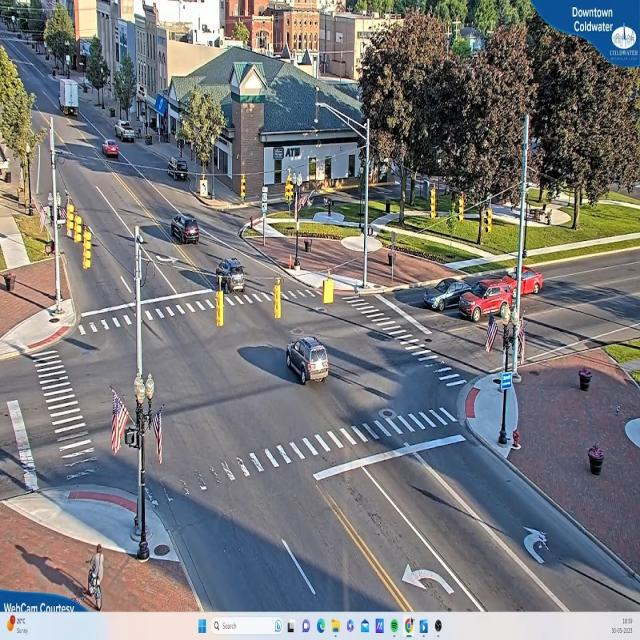car: (286, 338, 328, 386), (215, 259, 249, 292), (172, 215, 204, 245), (165, 160, 190, 180), (100, 139, 119, 158)
